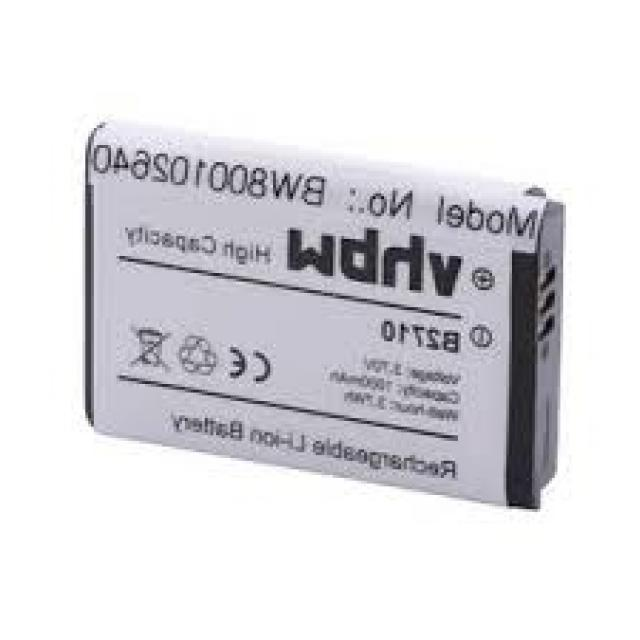battery: (87, 120, 570, 508)
